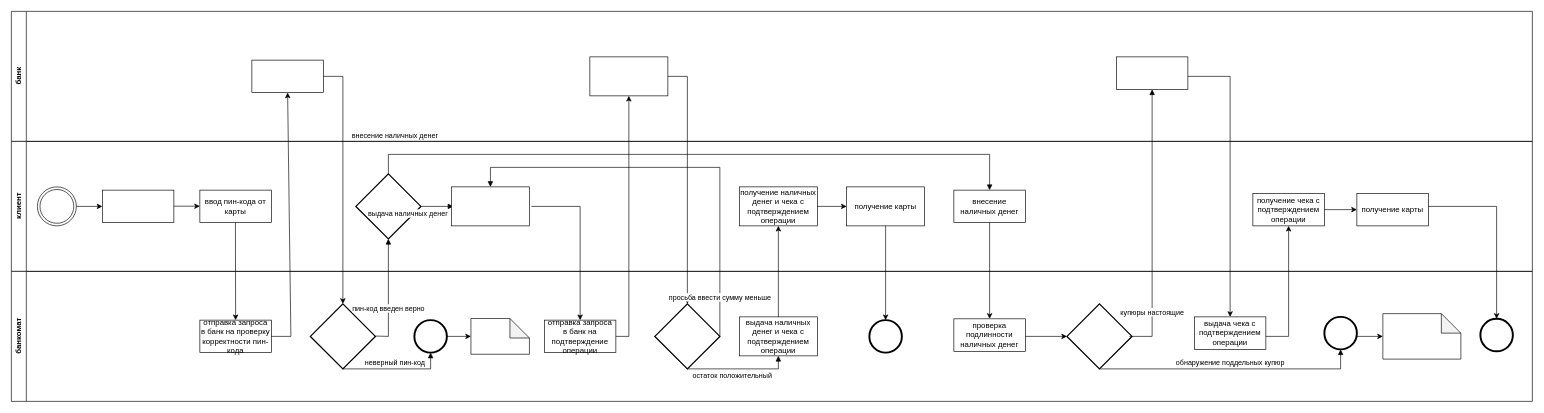
The diagram is 1544 pixels wide and 413 high, and some of its shapes have lost their labels. Each missing label, with the box of its shape:
ввод необходимой суммы денег: (451, 186, 529, 226)
внесение наличных денег на счет клиента: (1116, 56, 1188, 89)
вставить карту в банкомат: (102, 189, 174, 223)
отказ в обслуживании клиента: (470, 318, 529, 354)
отказ в операции, вызов охраны и спец. служб: (1382, 313, 1461, 359)
проверка корректности пин-кода: (251, 59, 323, 93)
проверка остатка на счете клиента: (589, 56, 668, 96)
